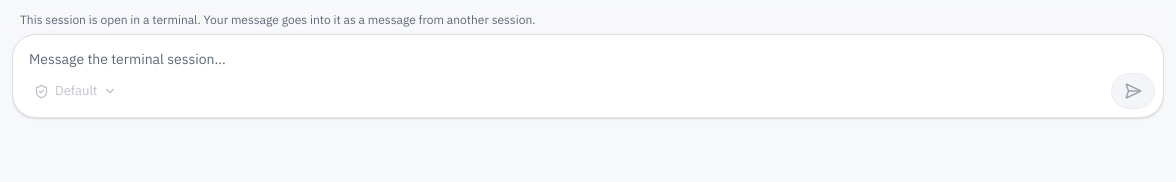
Test: T049 offers remote mode with the exact heading, label and slash note
The image size is (1176, 182).
Expected: the text "This session is open in a terminal. Your message goes into it as a message from another session." is shown, [20,12,536,27]
Expected: the text "Slash commands don't run this way" is not shown
Type "/compact" into the text box named "Reply to session" at point(588, 54), box [13,35,1163,73]
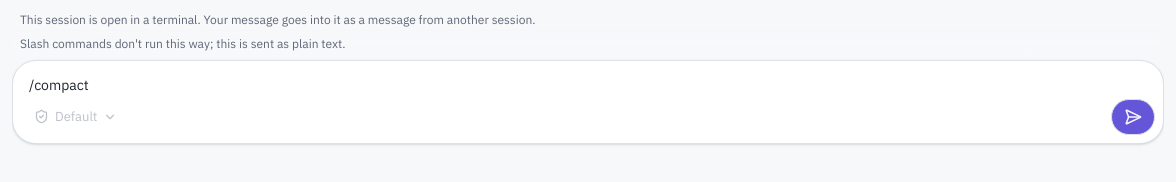
Result: the text "Slash commands don't run this way; this is sent as plain text." is shown at [20,36,346,51]
Replace the text in the text box named "Reply to session" with "Hello terminal" at point(588, 80), box [13,60,1163,98]
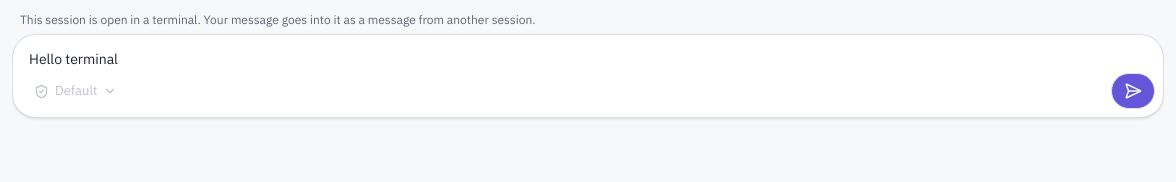
Click the button named "Send to the terminal session" at point(1133, 91), box [1111,73,1155,109]
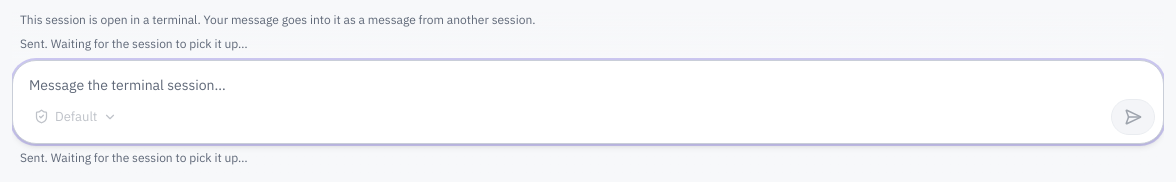
Result: the text box named "Reply to session" is empty at [13,60,1163,98]
